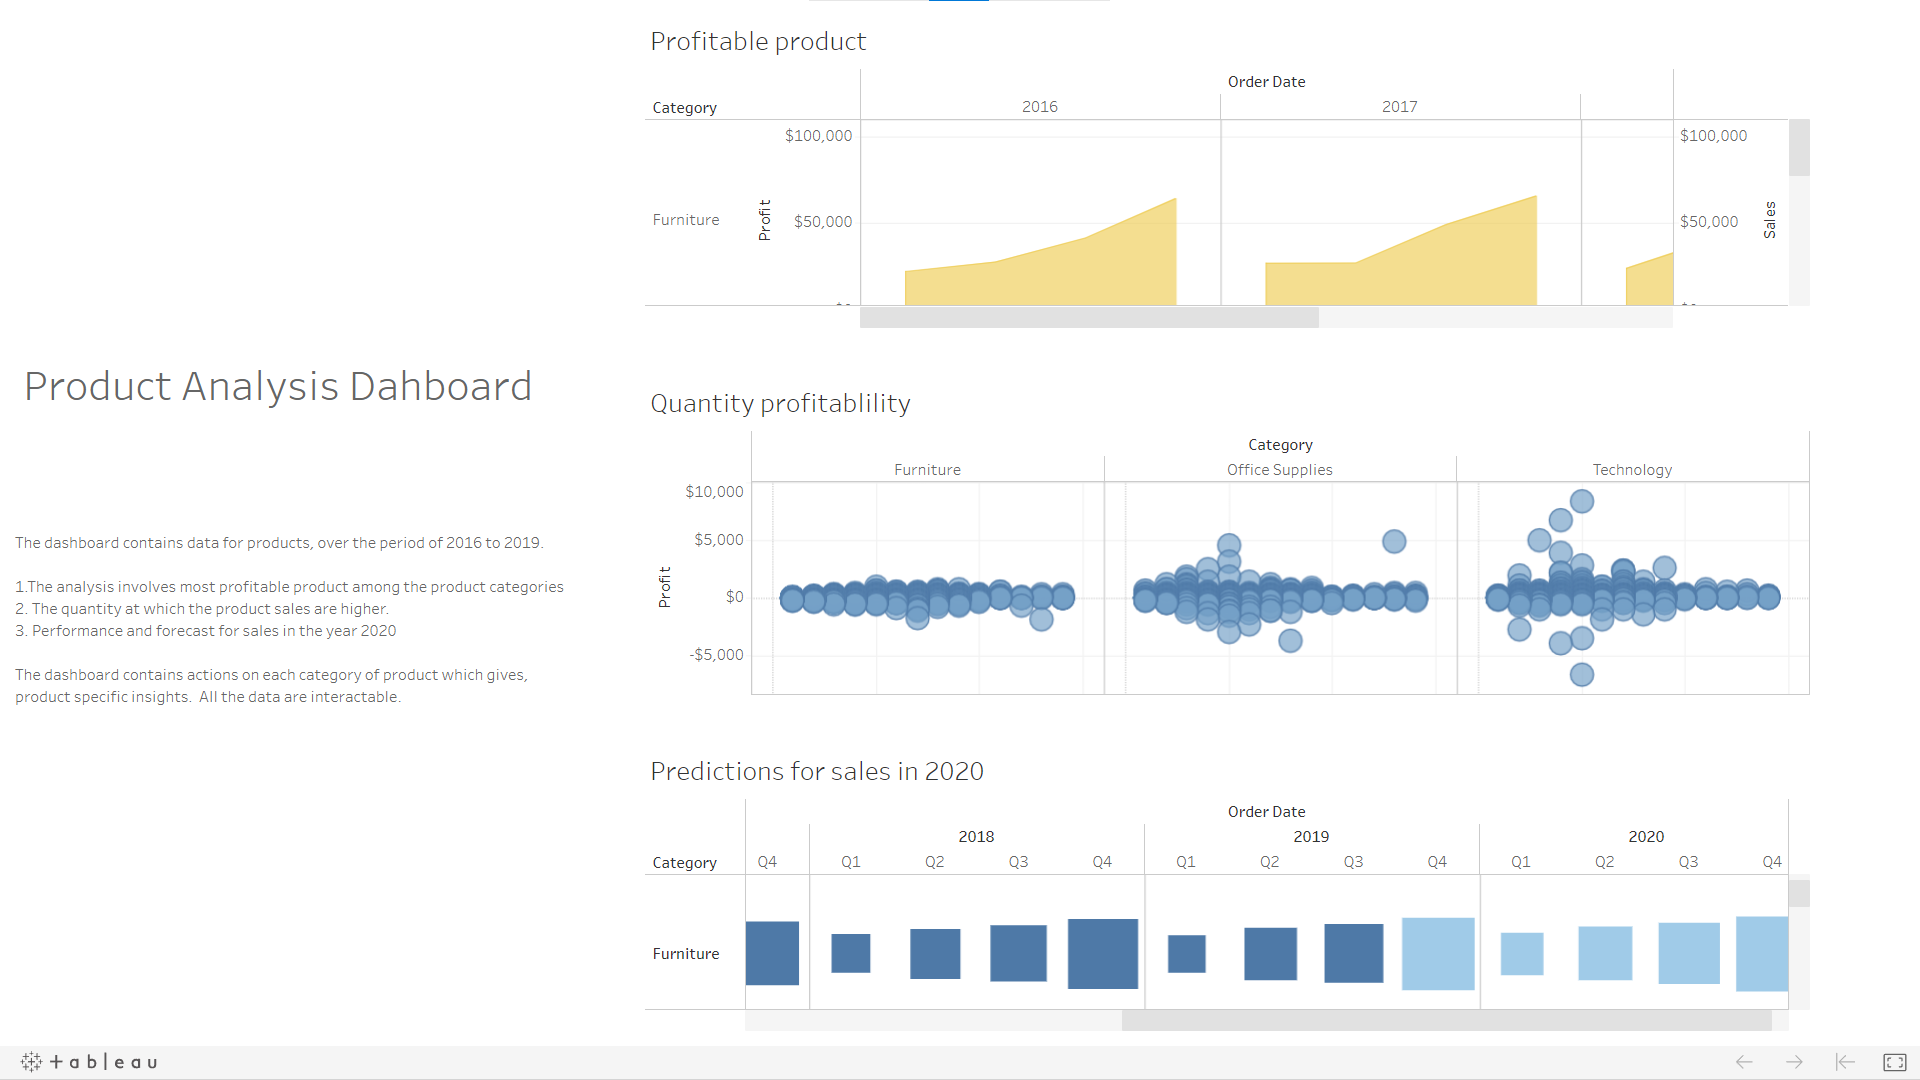

The page's visual inventory and layout, read from the dashboard file:
{"tool":"tableau","page":{"name":"Dashboard 1","canvas":[1000,1000],"units":"permille","ordinal":0},"visuals":[{"type":"worksheet","box":[0,0,1000,1000]},{"type":"worksheet","param":"horz","box":[4.8,9.3,990.3,981.4]},{"type":"worksheet","box":[4.8,9.3,990.3,981.4]},{"type":"worksheet","param":"horz","box":[4.8,9.3,889.6,981.4]},{"type":"worksheet","box":[4.8,9.3,889.6,981.4]},{"type":"worksheet","param":"vert","box":[4.8,9.3,889.6,707.3]},{"type":"worksheet","param":"vert","box":[4.8,9.3,889.6,657.4]},{"type":"worksheet","title":"Sheet 2","mark":"Area","rows":["Category","Profit","Sales"],"cols":["Order Date","Order Date"],"box":[4.8,9.3,889.6,306.6]},{"type":"worksheet","param":"horz","box":[894.4,9.3,100.8,981.4]},{"type":"worksheet","param":"vert","box":[4.8,315.9,889.6,37.2]},{"type":"worksheet","title":"Sheet 1","mark":"Circle","rows":["Profit"],"cols":["Category","Quantity"],"box":[4.8,353.1,889.6,313.6]},{"type":"worksheet","param":"vert","box":[4.8,666.7,889.6,49.9]},{"type":"worksheet","param":"vert","box":[4.8,716.6,889.6,274.1]},{"type":"worksheet","title":"Sheet 3","mark":"Square","rows":["Category"],"cols":["Order Date","Order Date"],"box":[4.8,716.6,889.6,274.1]}]}

Visuals, with their boxes on the dashboard's canvas, which has no fixed pixel size, in thousandths of its width and height (x1, y1, x2, y2). These are canvas units, not pixel positions in the 1920x1080 screenshot, which may show the page scaled, cropped or inside an application window:
worksheet: x1=0 y1=0 x2=1000 y2=1000
worksheet: x1=5 y1=9 x2=995 y2=991
worksheet: x1=5 y1=9 x2=995 y2=991
worksheet: x1=5 y1=9 x2=894 y2=991
worksheet: x1=5 y1=9 x2=894 y2=991
worksheet: x1=5 y1=9 x2=894 y2=717
worksheet: x1=5 y1=9 x2=894 y2=667
"Sheet 2" worksheet (Area marks): x1=5 y1=9 x2=894 y2=316
worksheet: x1=894 y1=9 x2=995 y2=991
worksheet: x1=5 y1=316 x2=894 y2=353
"Sheet 1" worksheet (Circle marks): x1=5 y1=353 x2=894 y2=667
worksheet: x1=5 y1=667 x2=894 y2=717
worksheet: x1=5 y1=717 x2=894 y2=991
"Sheet 3" worksheet (Square marks): x1=5 y1=717 x2=894 y2=991
